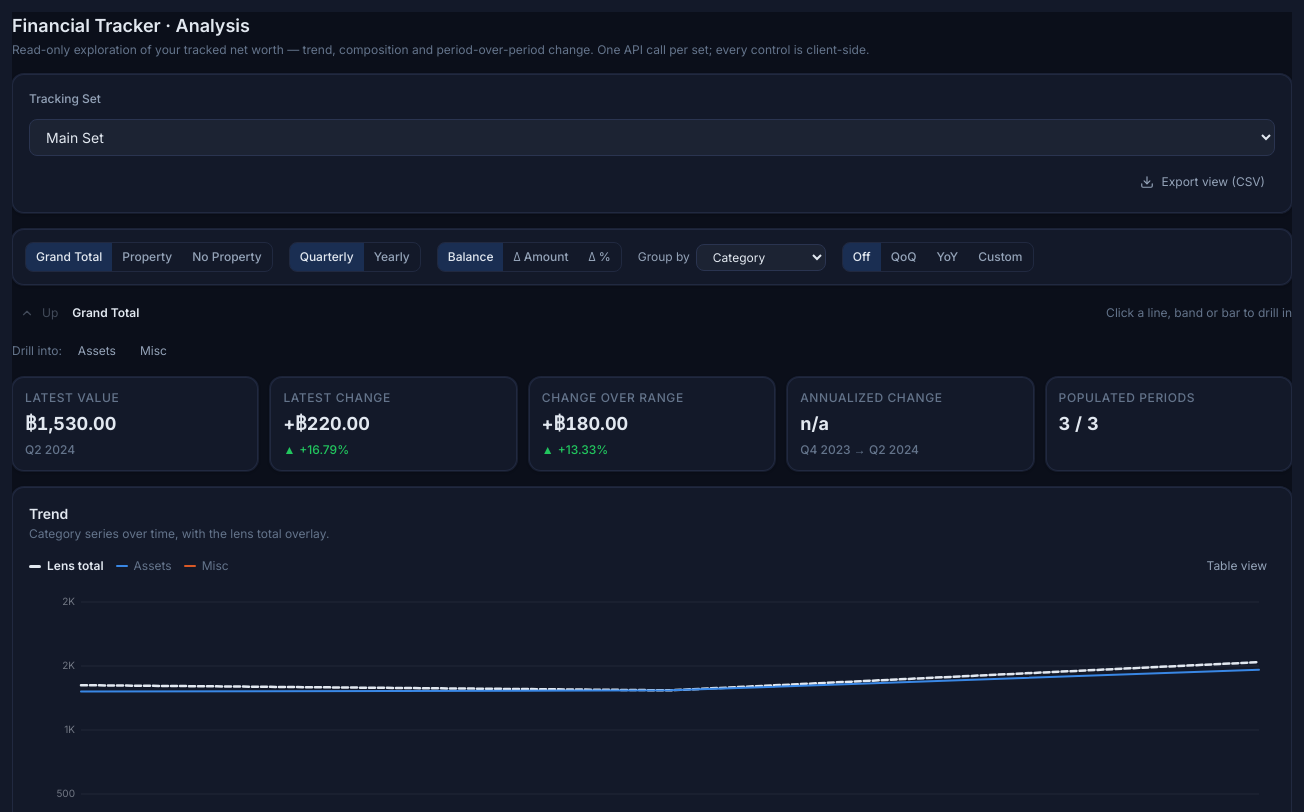
Analysis page › a granularity change that clears an active comparison surfaces the AC-9 notice
Click the button "QoQ".
click(904, 257)  # box [881,243,926,271]
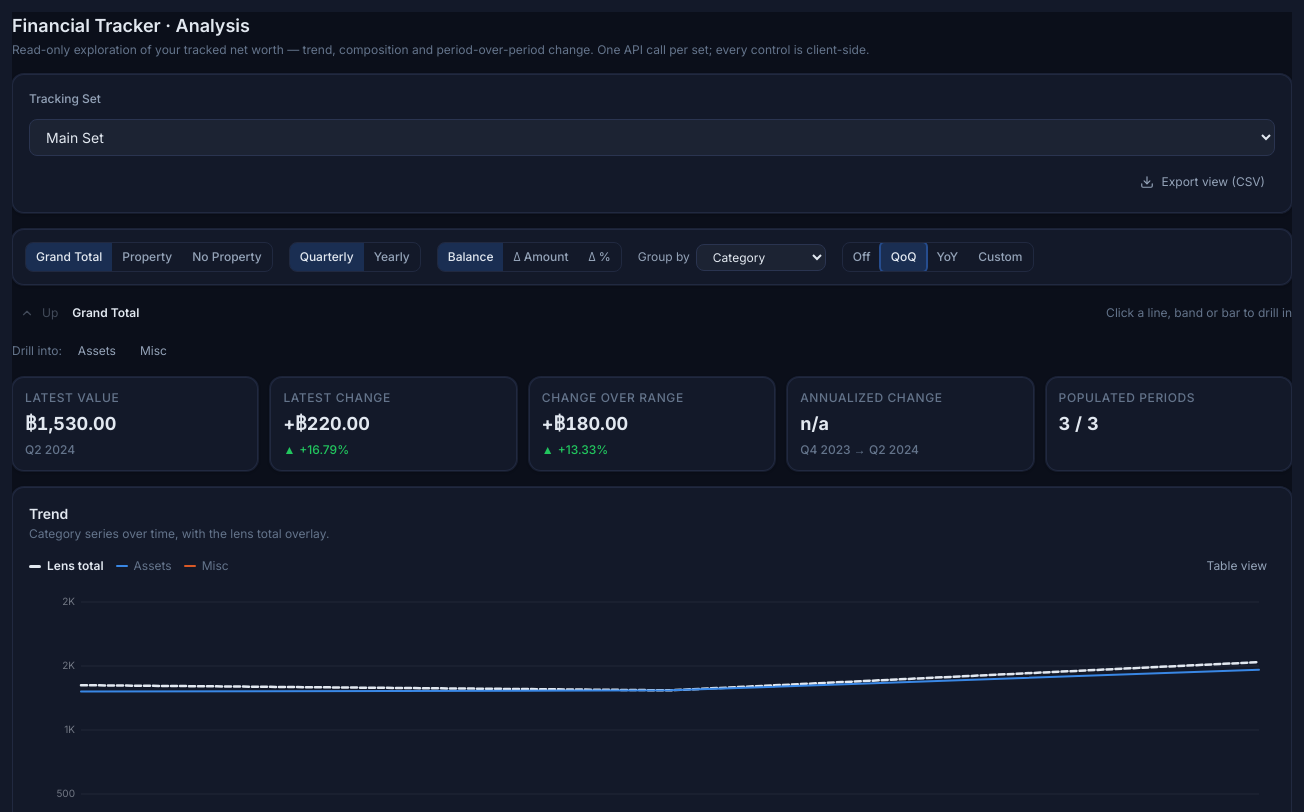
Click the button "Yearly".
click(392, 257)  # box [364,243,420,271]
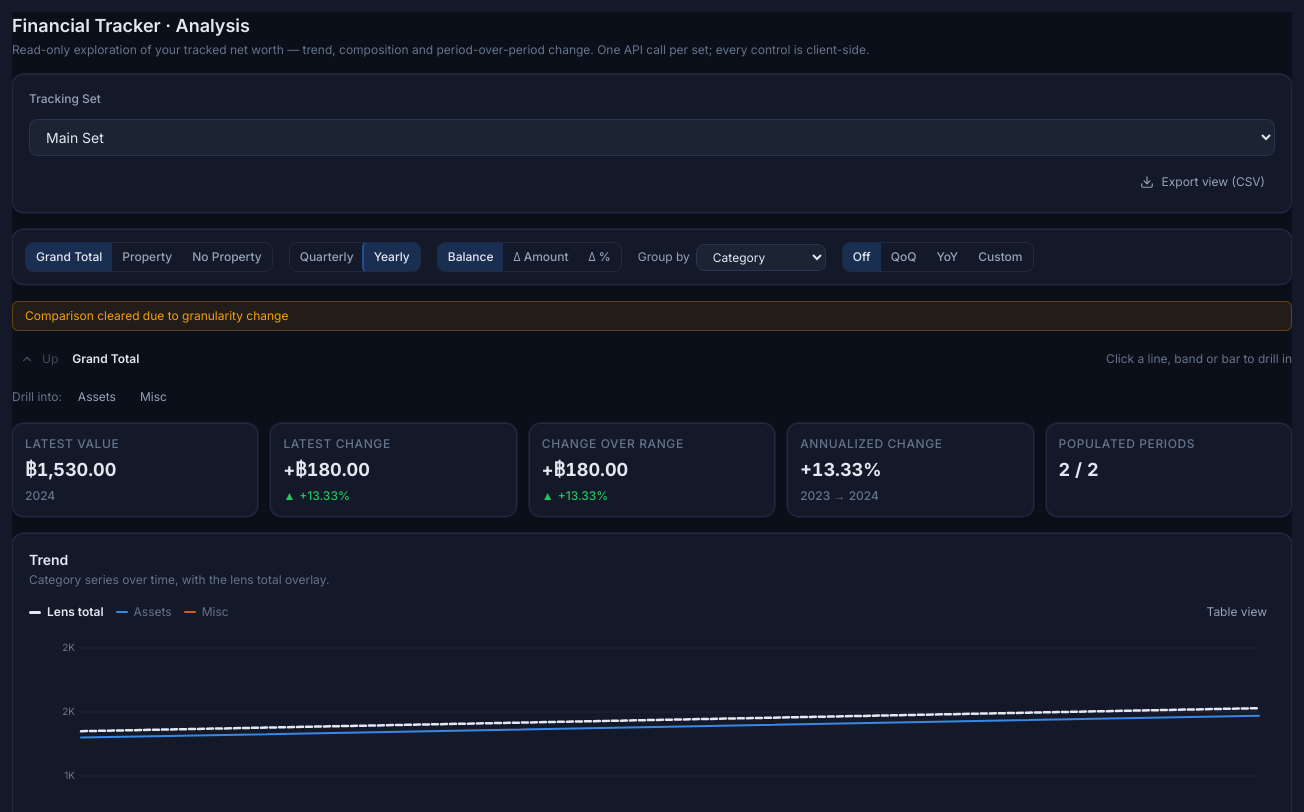
expect the text "Comparison cleared due to granularity change" is shown: met, box [12,301,1292,331]
